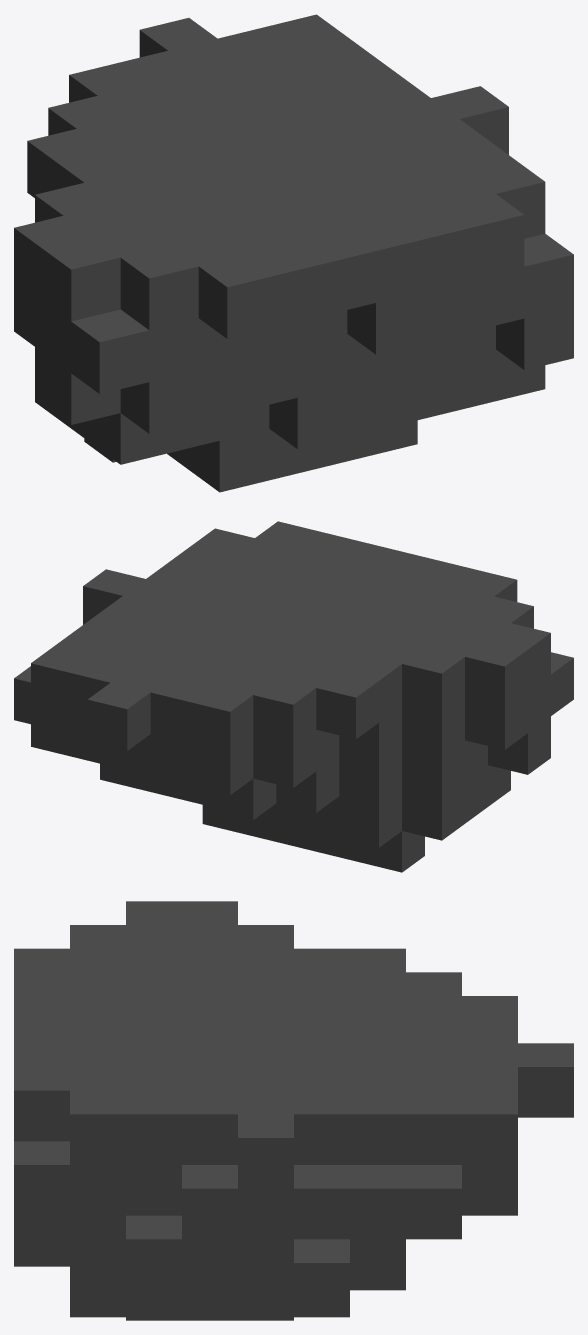
The model's file is Rocks-1.obj.
3 views of the same model, one above another, from view 1: azimuth 30°, elevation 25°; view 2: azimuth 150°, elevation 25°; view 3: azimuth 270°, elevation 25° (orthographic). The views are drawn at different scales.
Size of the model in its own units: 1.1 by 0.5 by 1.
1 material, 1 textured.
